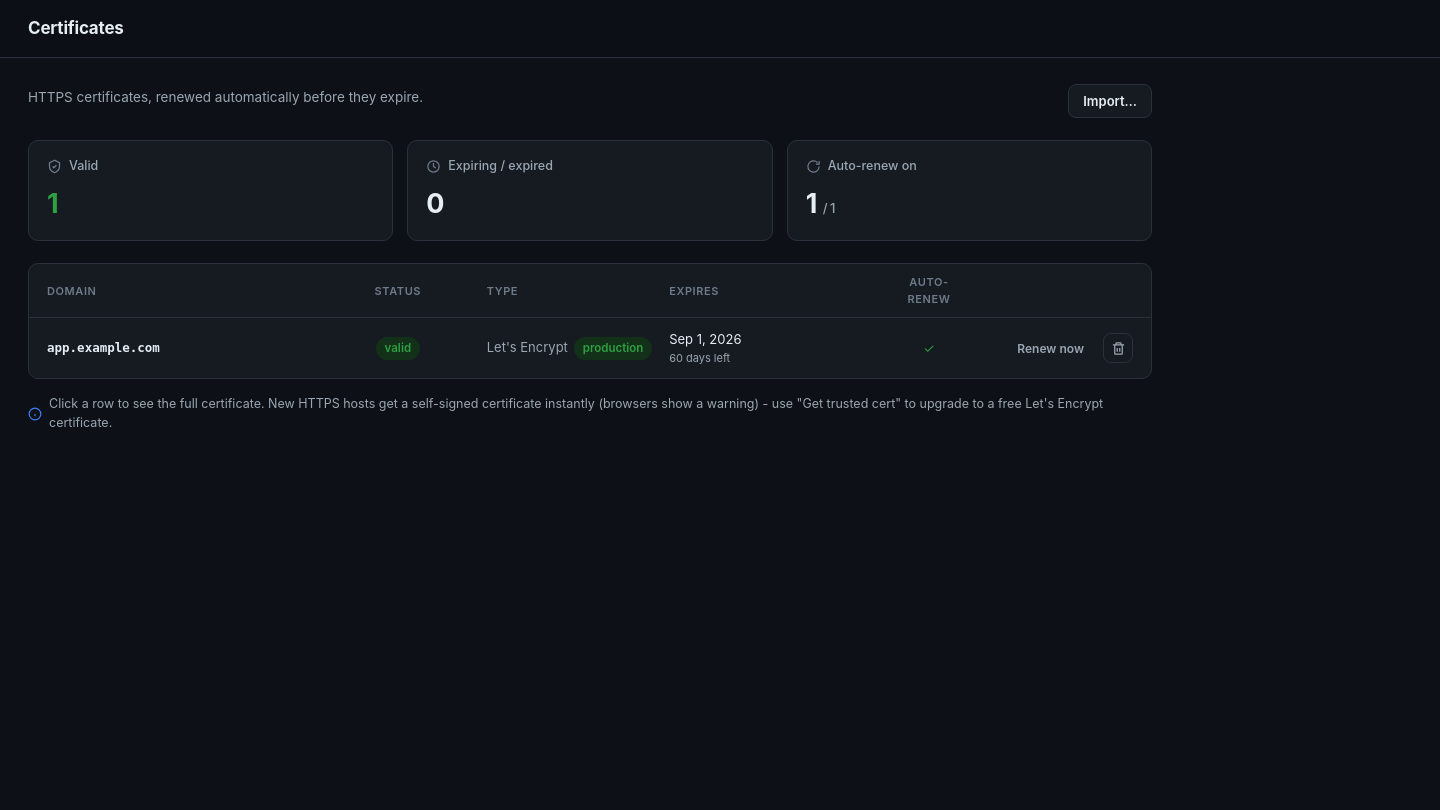
Certificates page › loads certificate details when a row is clicked
This screenshot has width=1440, height=810.
Click the text "app.example.com".
click(103, 347)  # box [47,340,160,355]
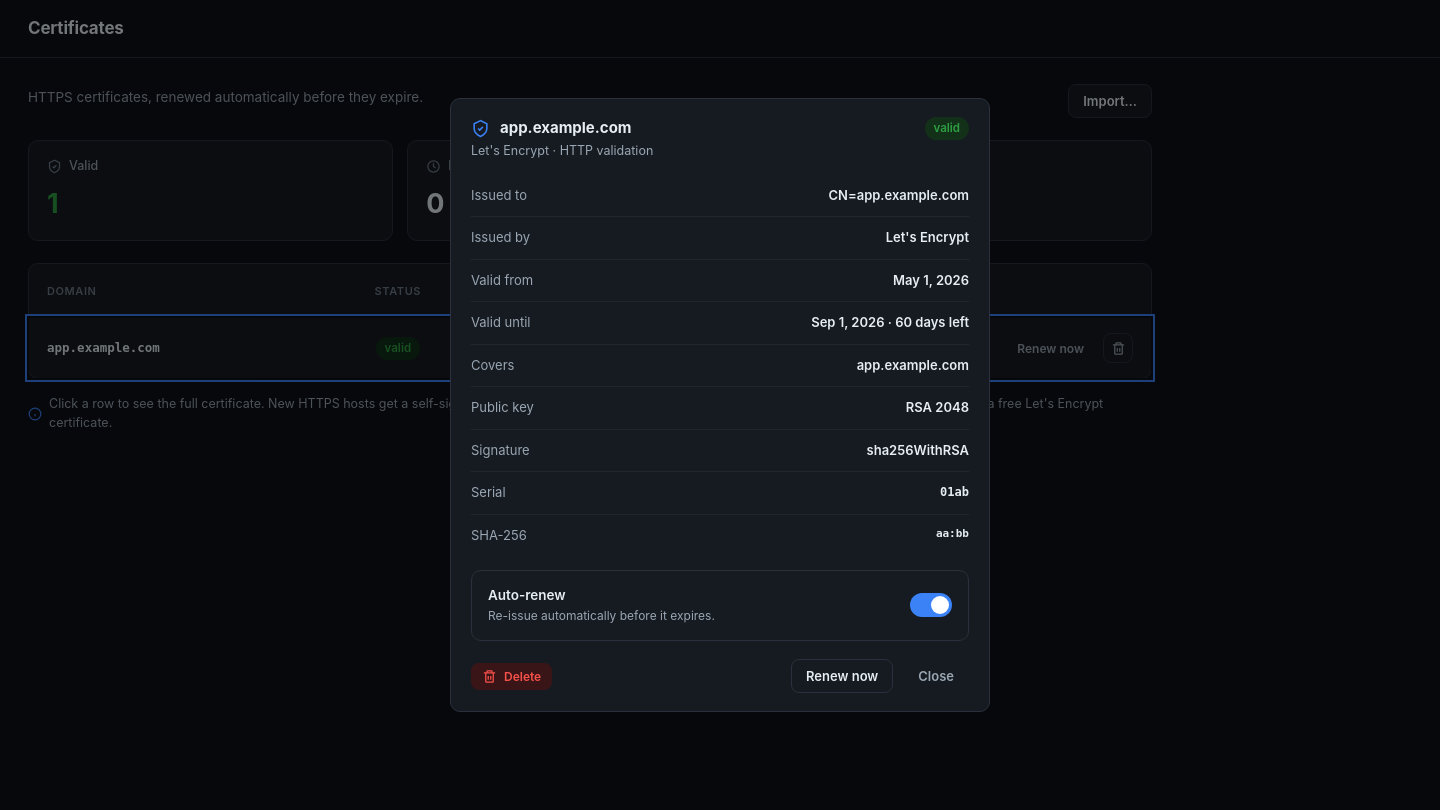
Result: the text "CN=app.example.com" is shown at [828,186,969,205]
